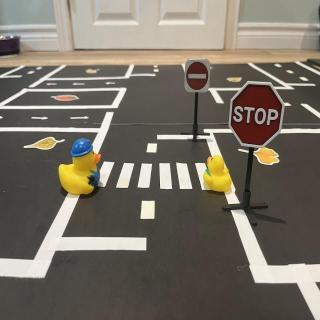duck_regular: (204, 154, 234, 194)
duck_specialty: (59, 139, 102, 197)
road_crosswalk: (98, 158, 220, 195)
road_oneway: (69, 114, 91, 122), (31, 115, 51, 123), (71, 82, 88, 88), (44, 82, 61, 88), (105, 82, 119, 87)
sign_noentry: (186, 58, 212, 94)
sign_stop: (230, 83, 286, 147)
